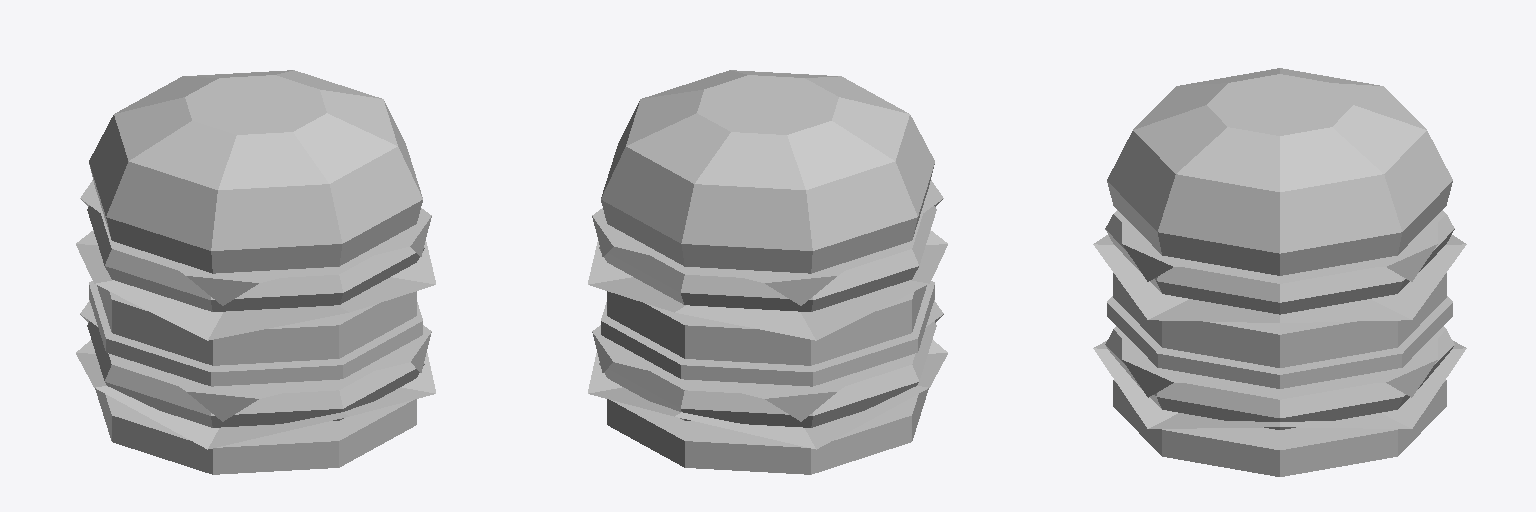
Rendered from burger-double.obj.
The picture shows the model from 3 angles: view 1: azimuth 30°, elevation 25°; view 2: azimuth 150°, elevation 25°; view 3: azimuth 270°, elevation 25°; orthographic projection.
Parts seen in each view (by area): view 1: bun-top, patty, salad, bun-bottom, bun-middle, cheese, tomato; view 2: bun-top, patty, salad, bun-bottom, bun-middle, cheese, tomato; view 3: bun-top, patty, salad, bun-bottom, bun-middle, tomato, cheese.
Boxes of the visible parts, box(x1,y1,x2,y2) form: bun-top: box(89, 70, 422, 273); patty: box(87, 206, 424, 427); salad: box(76, 230, 435, 449); bun-bottom: box(95, 388, 416, 474); bun-middle: box(97, 285, 416, 365); cheese: box(80, 180, 431, 421); tomato: box(89, 281, 422, 386); bun-top: box(601, 70, 934, 273); patty: box(599, 206, 936, 427); salad: box(588, 230, 947, 449); bun-bottom: box(607, 388, 928, 474); bun-middle: box(607, 285, 926, 365); cheese: box(592, 180, 943, 421); tomato: box(601, 281, 934, 386); bun-top: box(1107, 68, 1452, 275); patty: box(1105, 210, 1454, 429); salad: box(1093, 235, 1466, 428); bun-bottom: box(1113, 380, 1446, 476); bun-middle: box(1113, 273, 1446, 367); tomato: box(1107, 296, 1452, 388); cheese: box(1122, 215, 1437, 397).
Size of the model in its own units: 0.4041 by 0.36 by 0.4041.